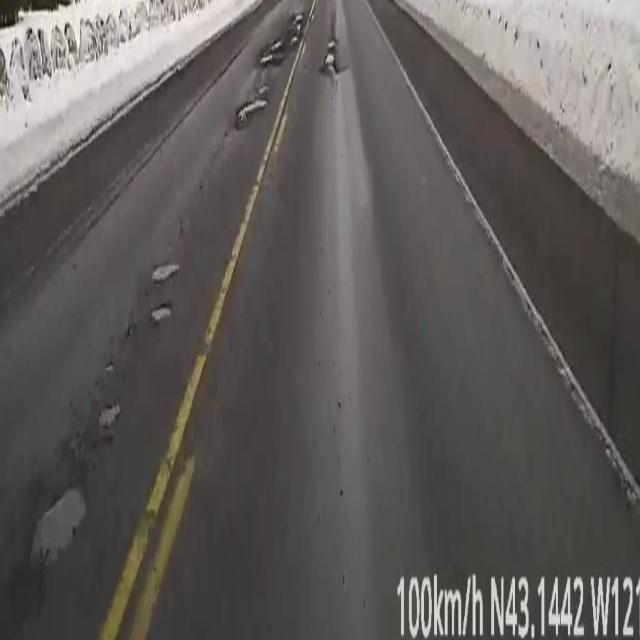pothole: (30, 490, 86, 568), (259, 6, 302, 71), (150, 260, 179, 326), (236, 91, 266, 129), (98, 400, 120, 430), (324, 39, 336, 70)
